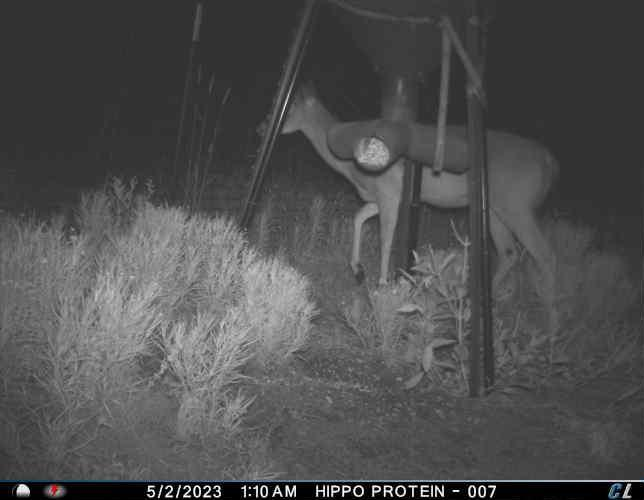Deer: (256, 76, 560, 294)
